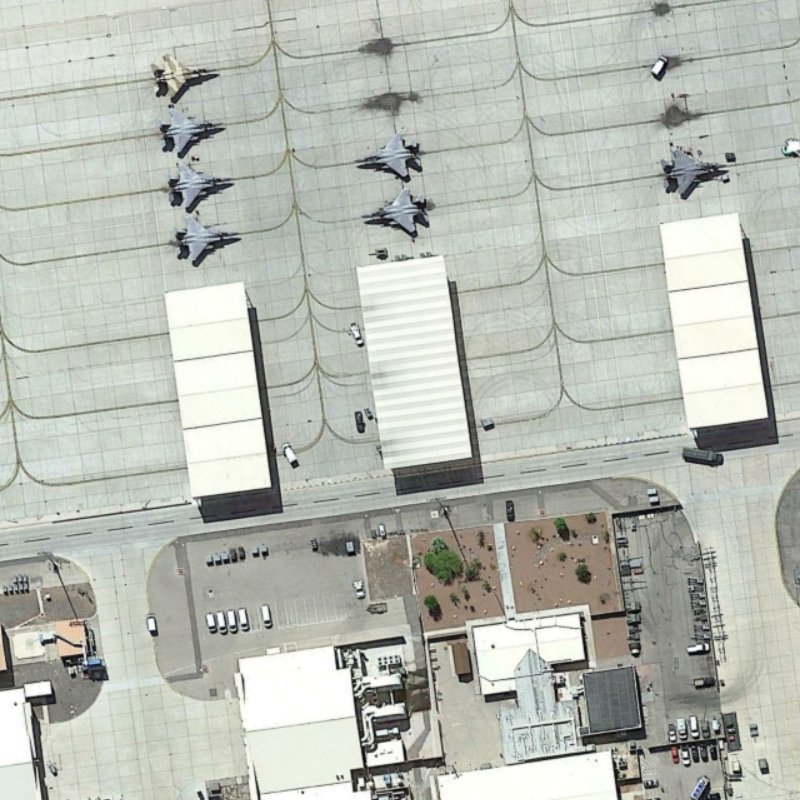A13: (655, 142, 733, 204), (167, 209, 243, 271), (357, 184, 434, 241), (348, 127, 425, 182), (147, 50, 217, 107), (164, 157, 236, 212), (155, 108, 224, 159)
